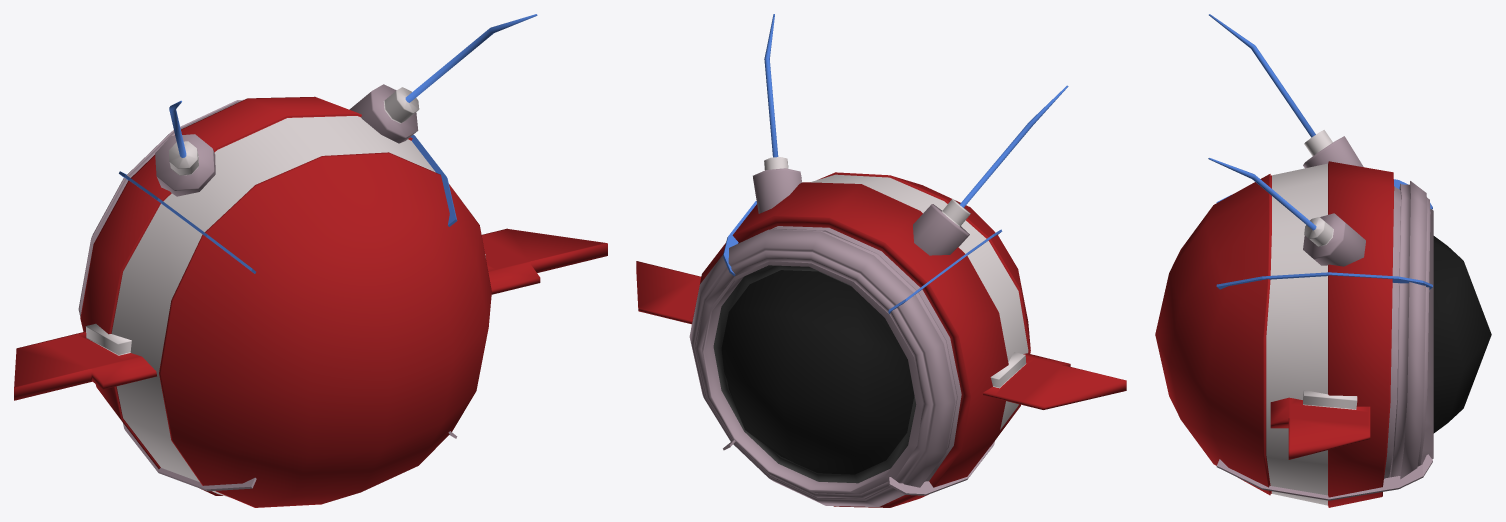
File: flying.drone.1.fbx
3 renders of one model, left to right at view 1: azimuth 30°, elevation 25°; view 2: azimuth 150°, elevation 25°; view 3: azimuth 270°, elevation 25°, orthographic. The views are drawn at different scales.
Parts seen in each view (by area): view 1: Cube.003; view 2: Cube.003; view 3: Cube.003.
Boxes of the visible parts, x1,y1,x2,y2 form: Cube.003: (14,14,607,507); Cube.003: (636,14,1126,507); Cube.003: (1155,14,1491,507).
Bounding box in the file's own units: 297 × 233 × 175.
